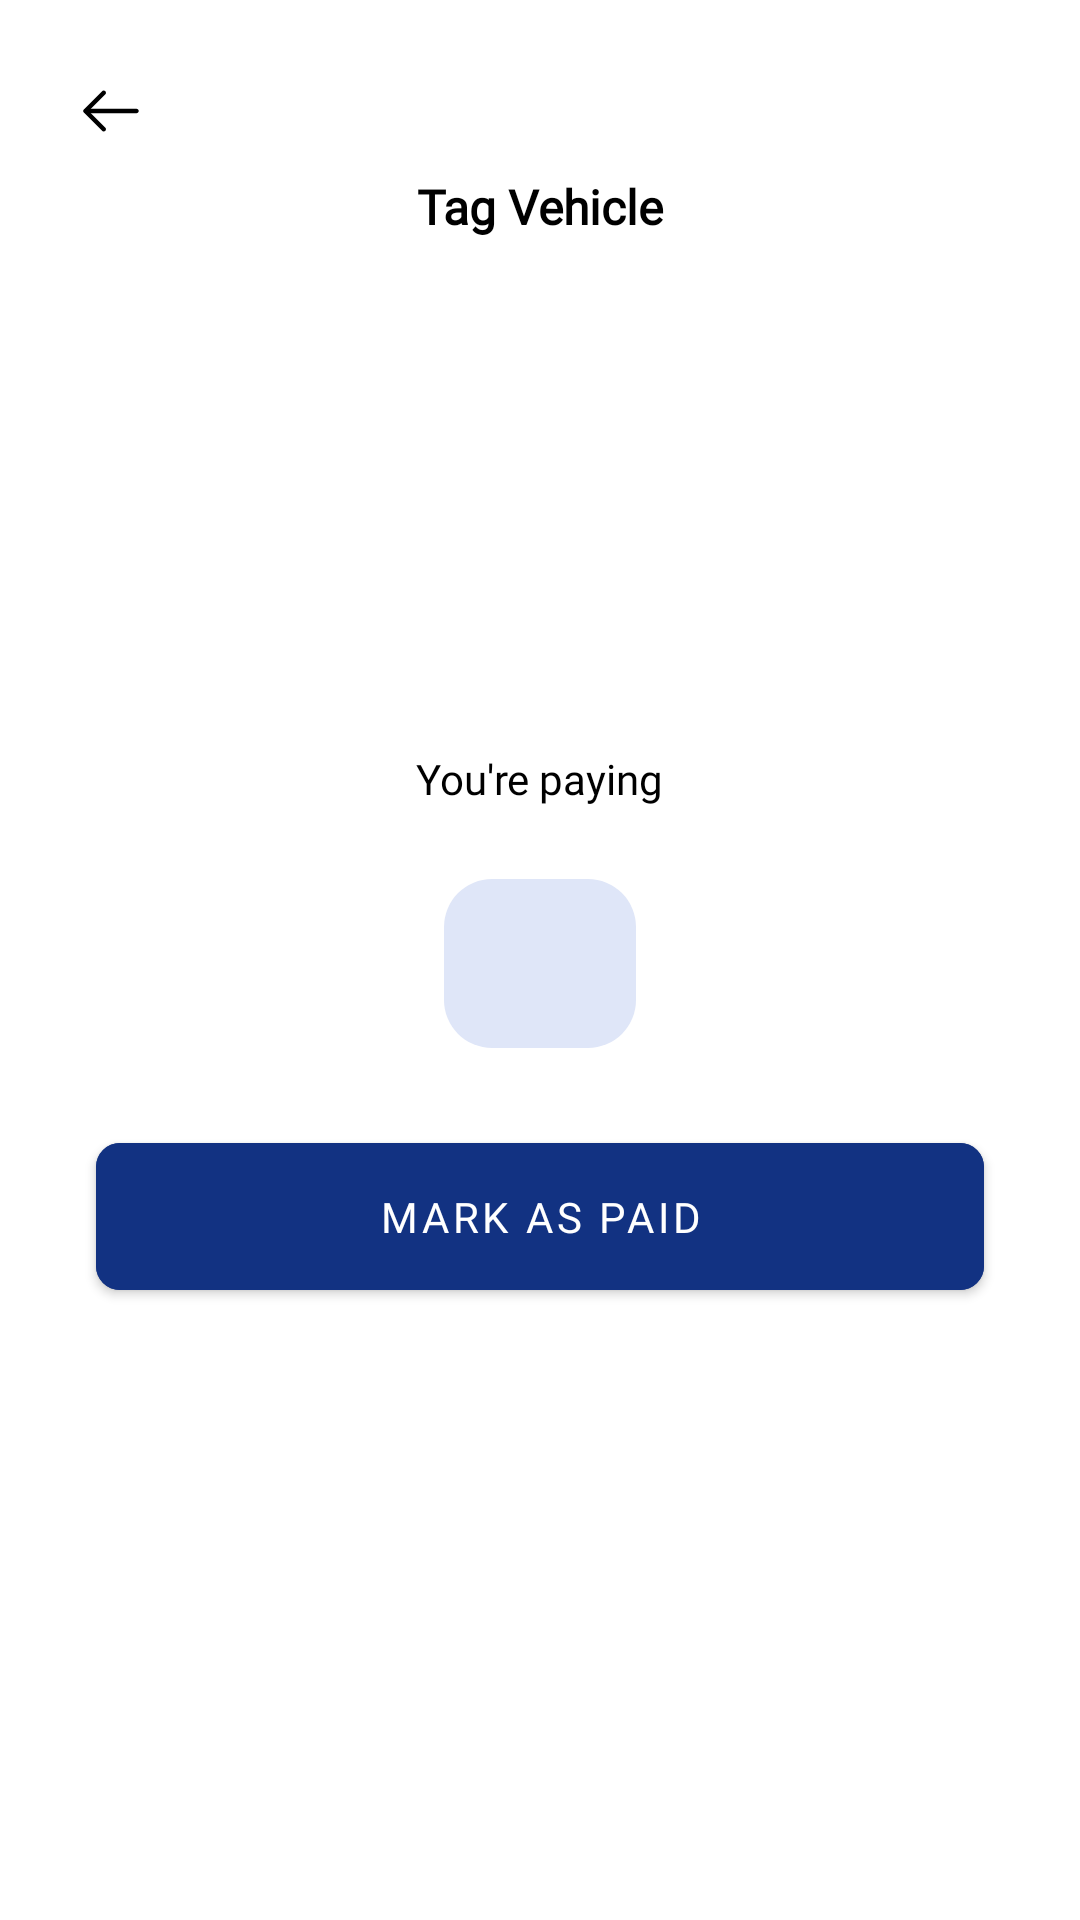

Named icons in this screenshot (1080*1920) and their centers, (x,y):
arrow left: (111,111)
